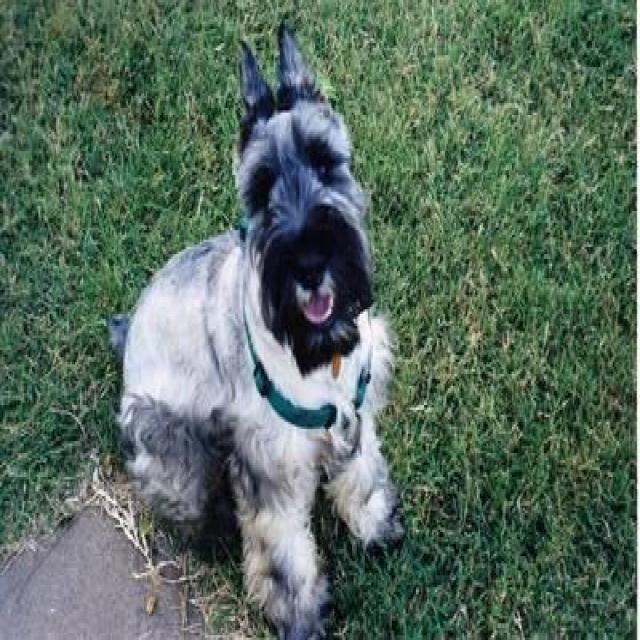standard_schnauzer: (96, 22, 397, 632)
